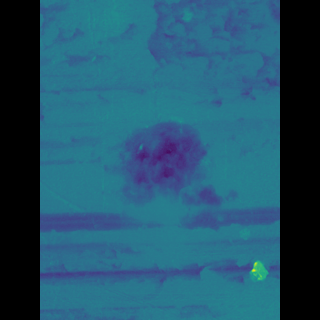Loch: (98, 0, 228, 259)
